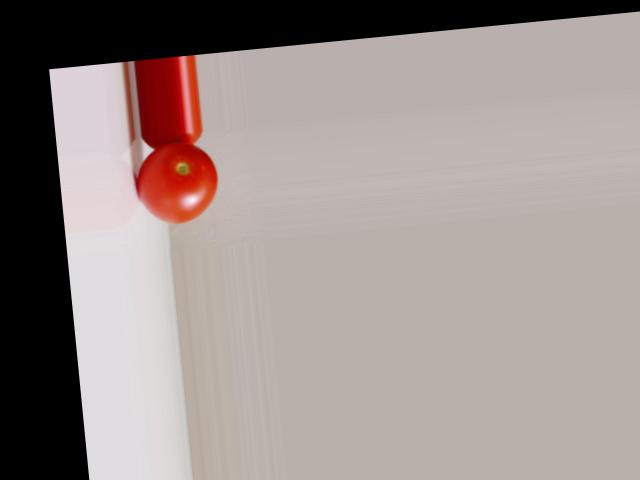tomato: (134, 139, 221, 226)
